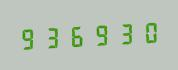nine: (17, 23, 40, 52), (90, 19, 113, 48)
six: (66, 21, 89, 49)
three: (41, 22, 64, 51), (114, 18, 137, 47)
zero: (138, 17, 161, 46)
